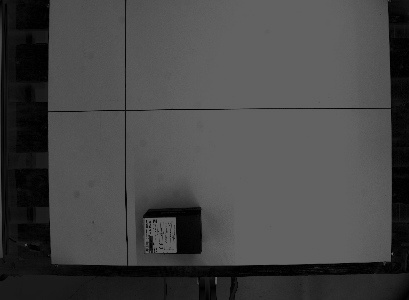b4: (140, 204, 204, 256)
